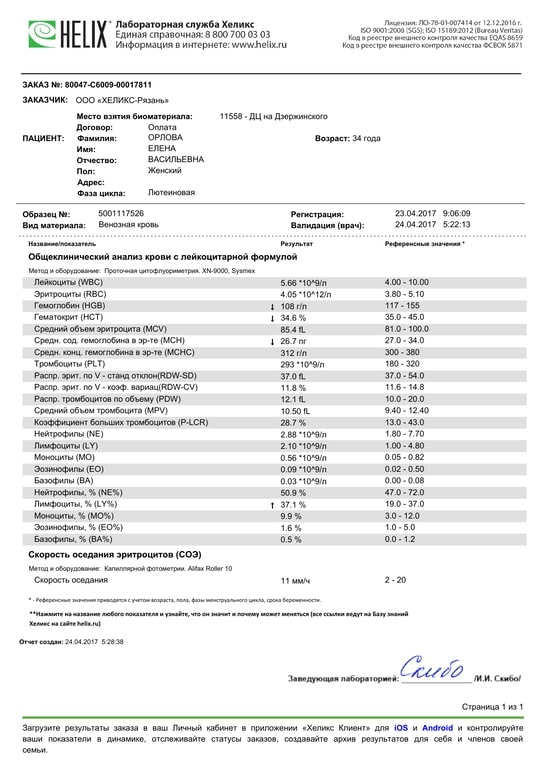column: (32, 277, 209, 545), (278, 277, 332, 545), (383, 277, 431, 545), (33, 574, 108, 584), (384, 240, 461, 248), (27, 240, 96, 248), (280, 574, 310, 584), (280, 240, 313, 248), (384, 574, 406, 584)
